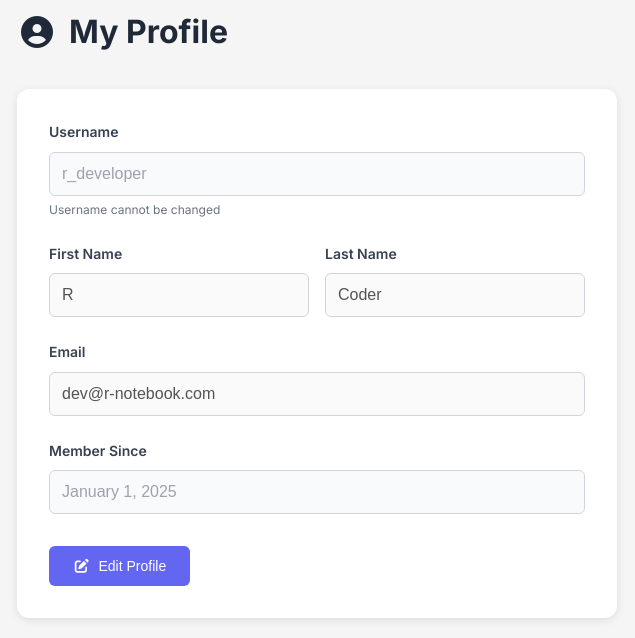
it: ProfilePage.vue › toggles edit mode and unlocks inputs
The width and height of the screenshot is (635, 638).
Click the button "Edit Profile" at {"x": 120, "y": 566}, box [49,546,190,586]
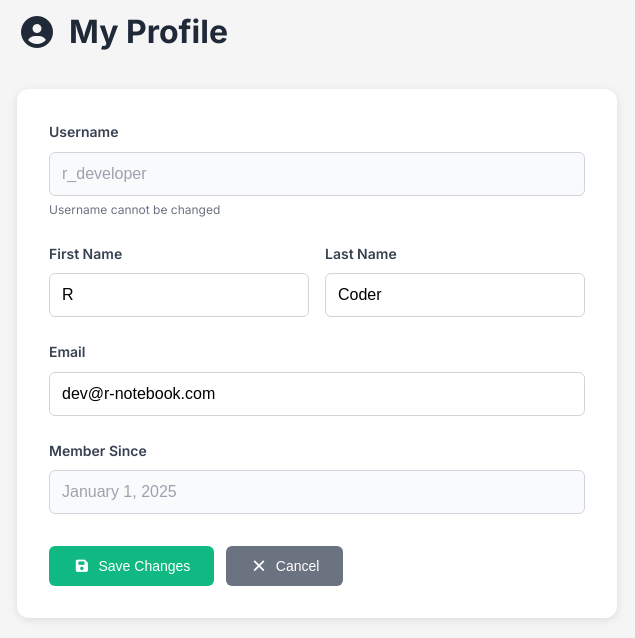
Check: the button with class "btn-success" reads "Save Changes", box [49,546,214,586]
